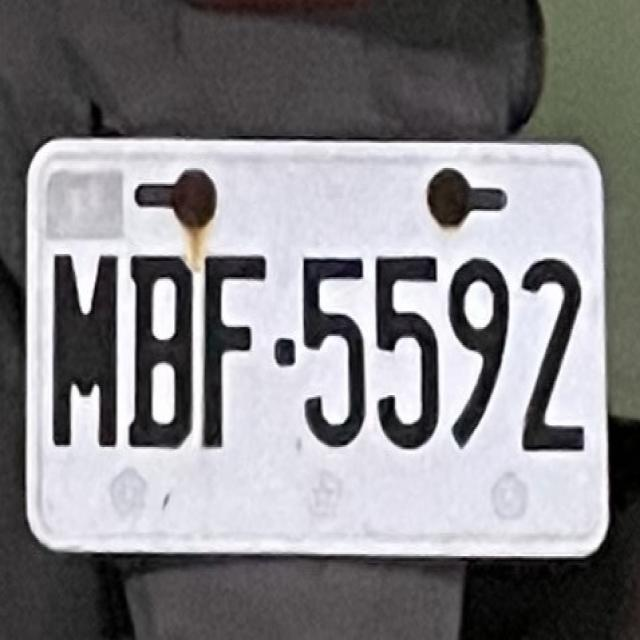license-plate: (25, 116, 613, 581)
